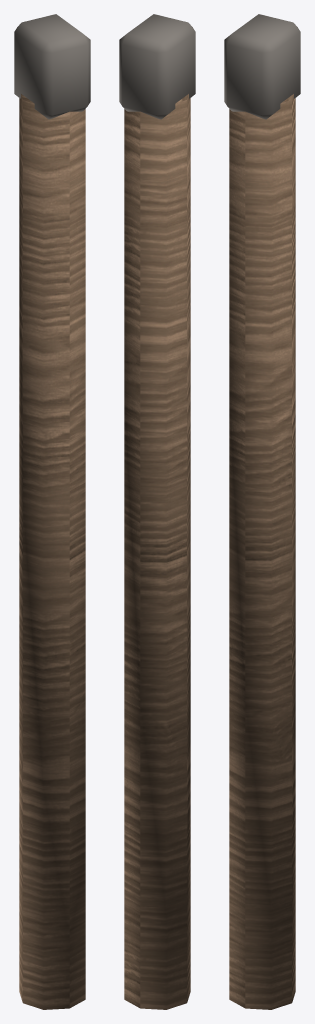
The model's file is hammer.glb.
3 renders of one model, left to right at view 1: azimuth 30°, elevation 25°; view 2: azimuth 150°, elevation 25°; view 3: azimuth 330°, elevation 25°, orthographic.
Parts seen in each view (by area): view 1: hammer; view 2: hammer; view 3: hammer.
Part boxes in pixels (x1,y1,x2,y2): hammer: [14, 14, 90, 1009]; hammer: [119, 14, 195, 1009]; hammer: [224, 14, 300, 1009].
Size of the model in its own units: 0.024 by 0.375 by 0.025.
2 materials, 1 textured.
